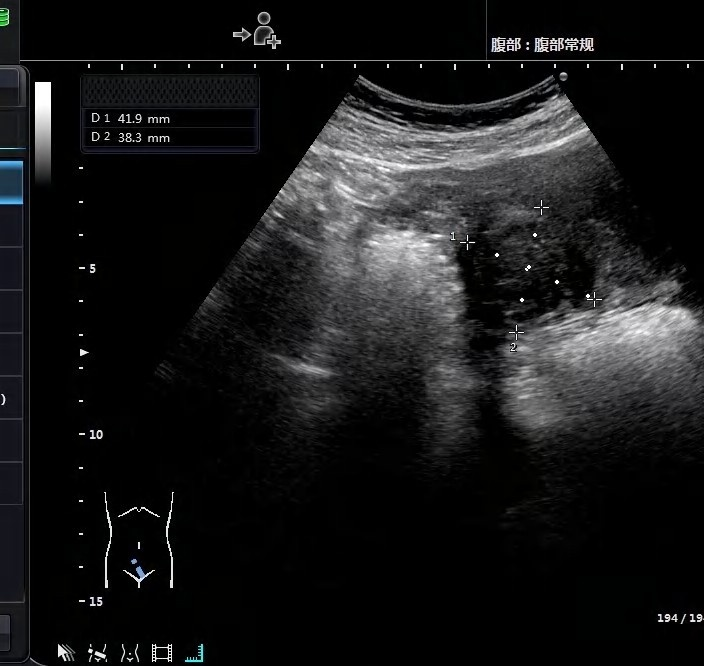肌瘤: (457, 203, 591, 322)
